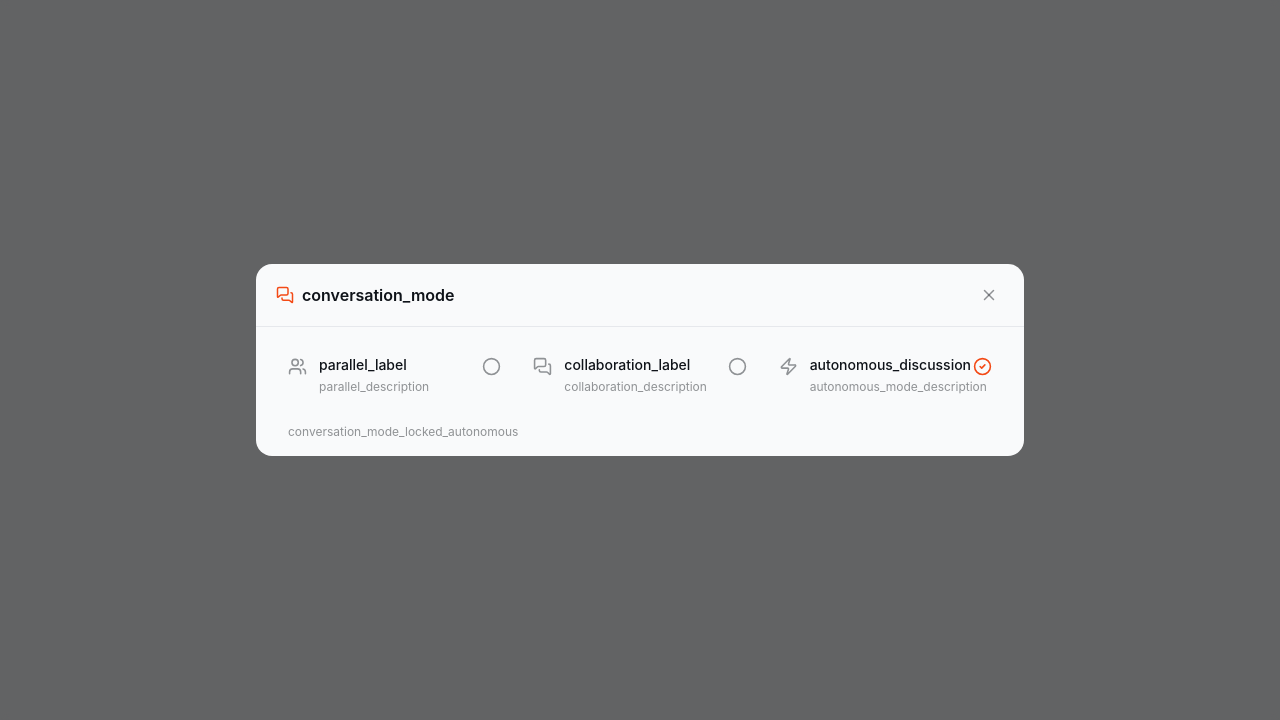
Scenario: ConversationModeDrawer › allows browsing during an active discussion without changing its mode
This screenshot has width=1280, height=720.
Click the radio button labelled "parallel_label parallel_description".
click(395, 376)  # box [276,343,513,408]
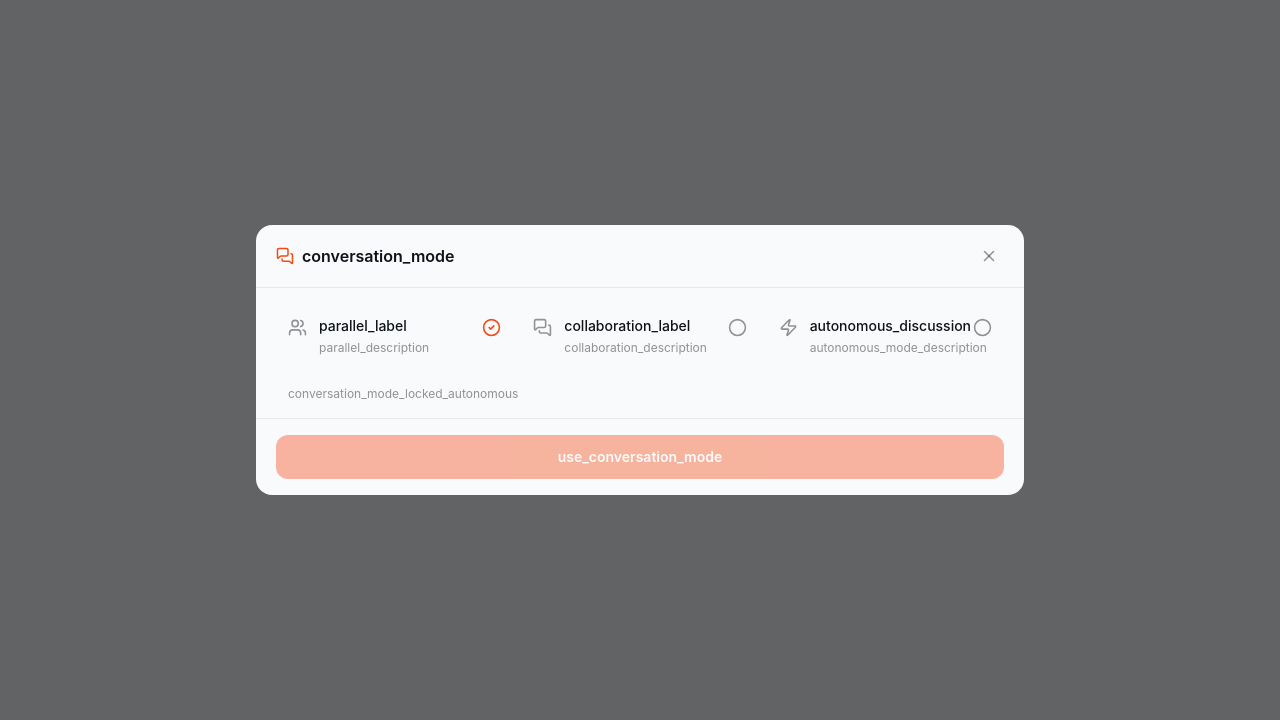
Result: the button "use_conversation_mode" is disabled at [276,435,1004,479]
